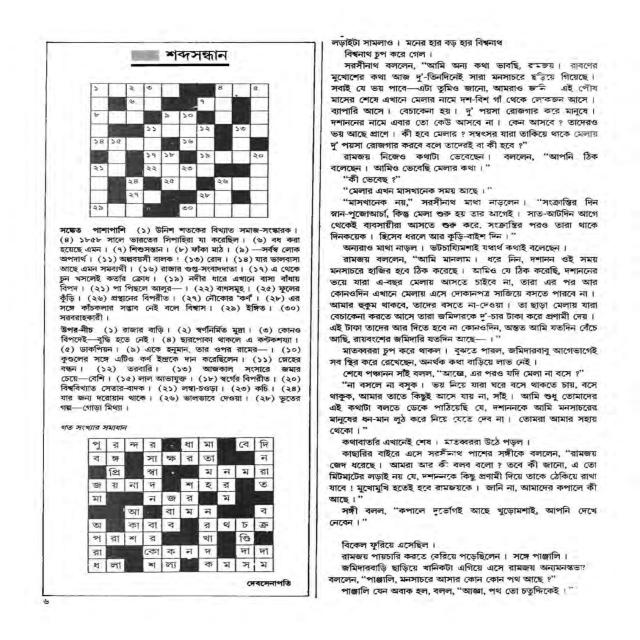image: (86, 436, 275, 573), (89, 82, 270, 218)
page number: (339, 435, 531, 447)
paragraph: (329, 60, 599, 151), (328, 254, 599, 344), (58, 225, 301, 322), (59, 324, 302, 413), (328, 448, 598, 505), (328, 379, 599, 435), (329, 196, 600, 242), (328, 345, 600, 368), (328, 150, 599, 173), (329, 505, 598, 528), (327, 562, 587, 585), (340, 585, 575, 597), (341, 242, 567, 253), (342, 368, 585, 378), (341, 551, 569, 561), (328, 37, 503, 48), (342, 185, 493, 196), (340, 539, 436, 551), (343, 48, 433, 60), (342, 174, 401, 184)
text: (246, 578, 292, 587), (42, 599, 50, 605)
title: (163, 49, 229, 62)
